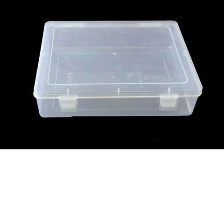plastic_box: (26, 13, 210, 124)
